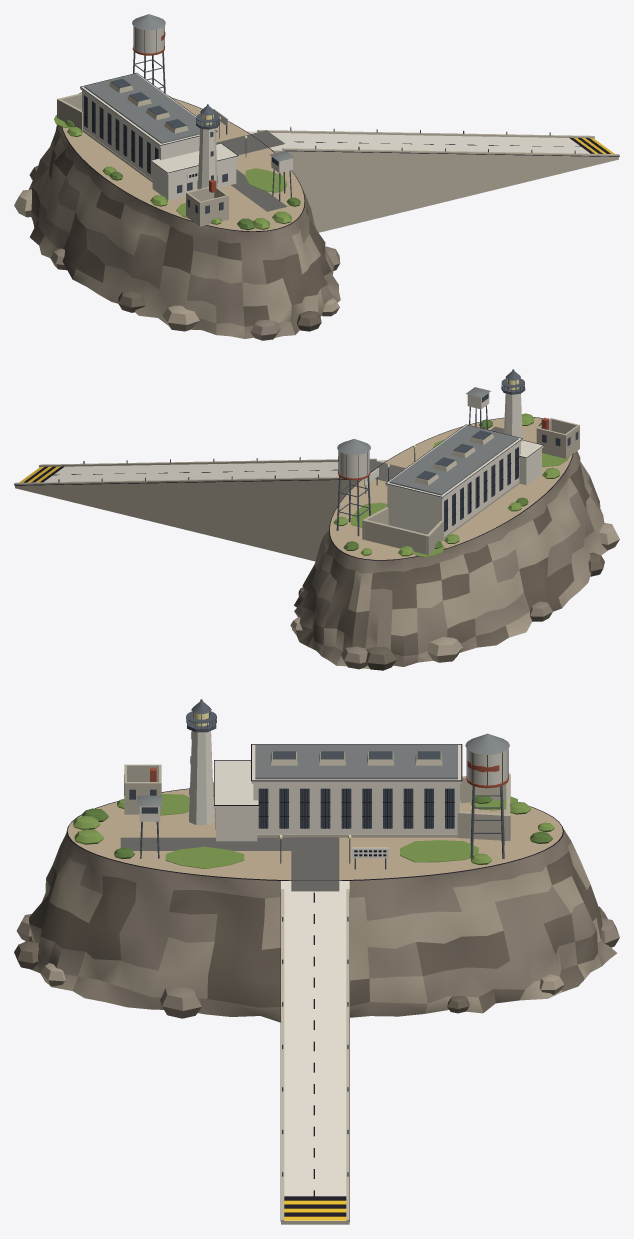
File: alcatraz.glb
3 renders of one model, top to bottom at view 1: azimuth 30°, elevation 25°; view 2: azimuth 150°, elevation 25°; view 3: azimuth 270°, elevation 25°, orthographic. The views are drawn at different scales.
Parts seen in each view (by area): view 1: island, cellhouse, buildings; view 2: island, cellhouse, buildings; view 3: island, cellhouse, buildings.
Boxes of the visible parts, x1,y1,x2,y2 form: island: (14, 92, 619, 340); cellhouse: (57, 73, 238, 200); buildings: (132, 14, 294, 226); island: (14, 413, 619, 670); cellhouse: (362, 424, 543, 555); buildings: (336, 369, 579, 536); island: (14, 782, 619, 1224); cellhouse: (214, 744, 510, 841); buildings: (124, 699, 509, 869).
Size of the model in its own units: 118 by 39.57 by 87.91.
